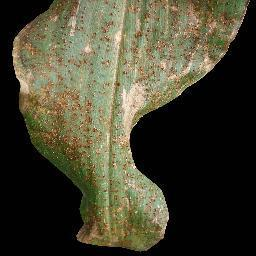Corn_Common_Rust: (9, 0, 243, 86), (16, 86, 194, 135), (62, 174, 172, 252), (29, 135, 141, 173)
